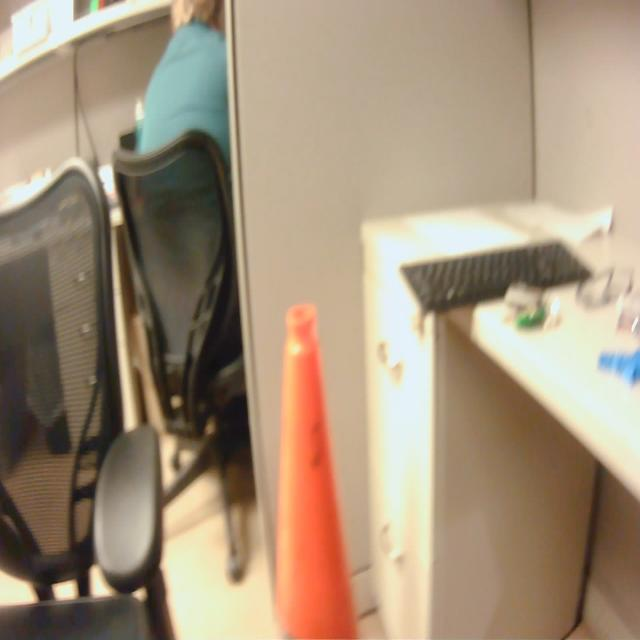traffic cone: (264, 294, 379, 640)
